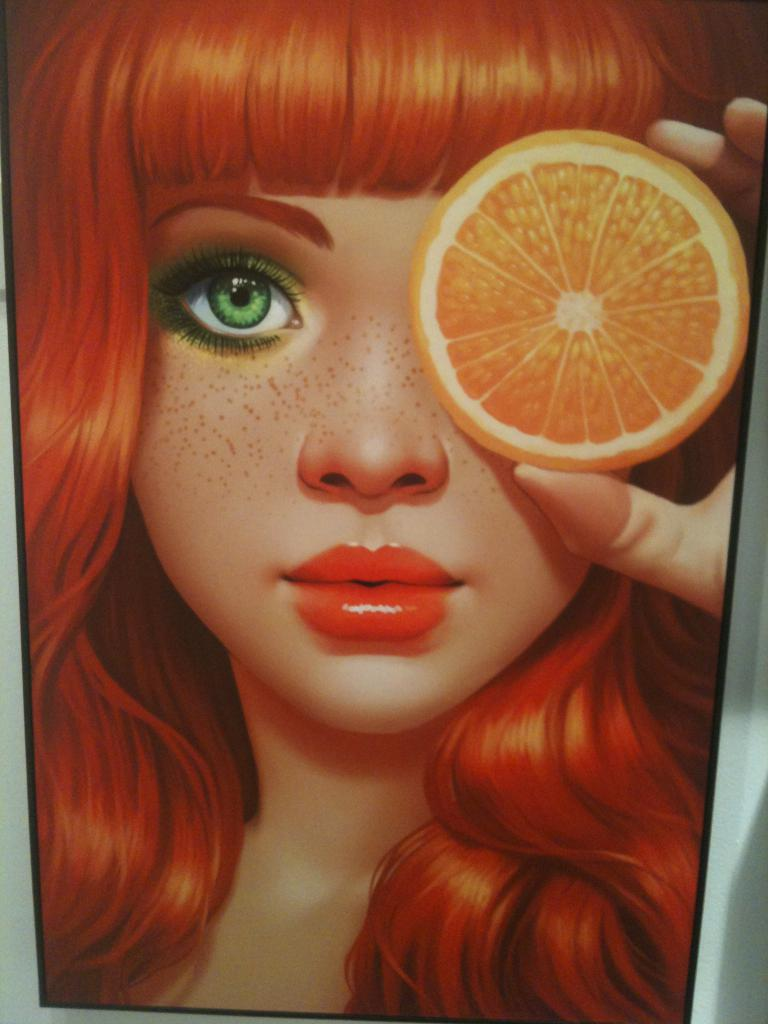Ripe: (408, 110, 756, 492)
